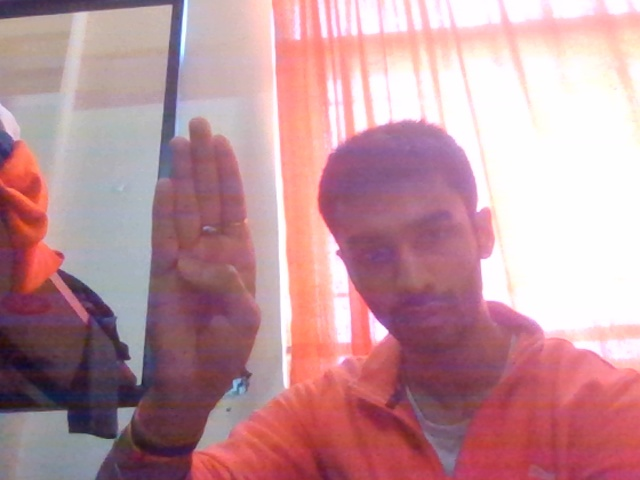B: (107, 105, 293, 420)
